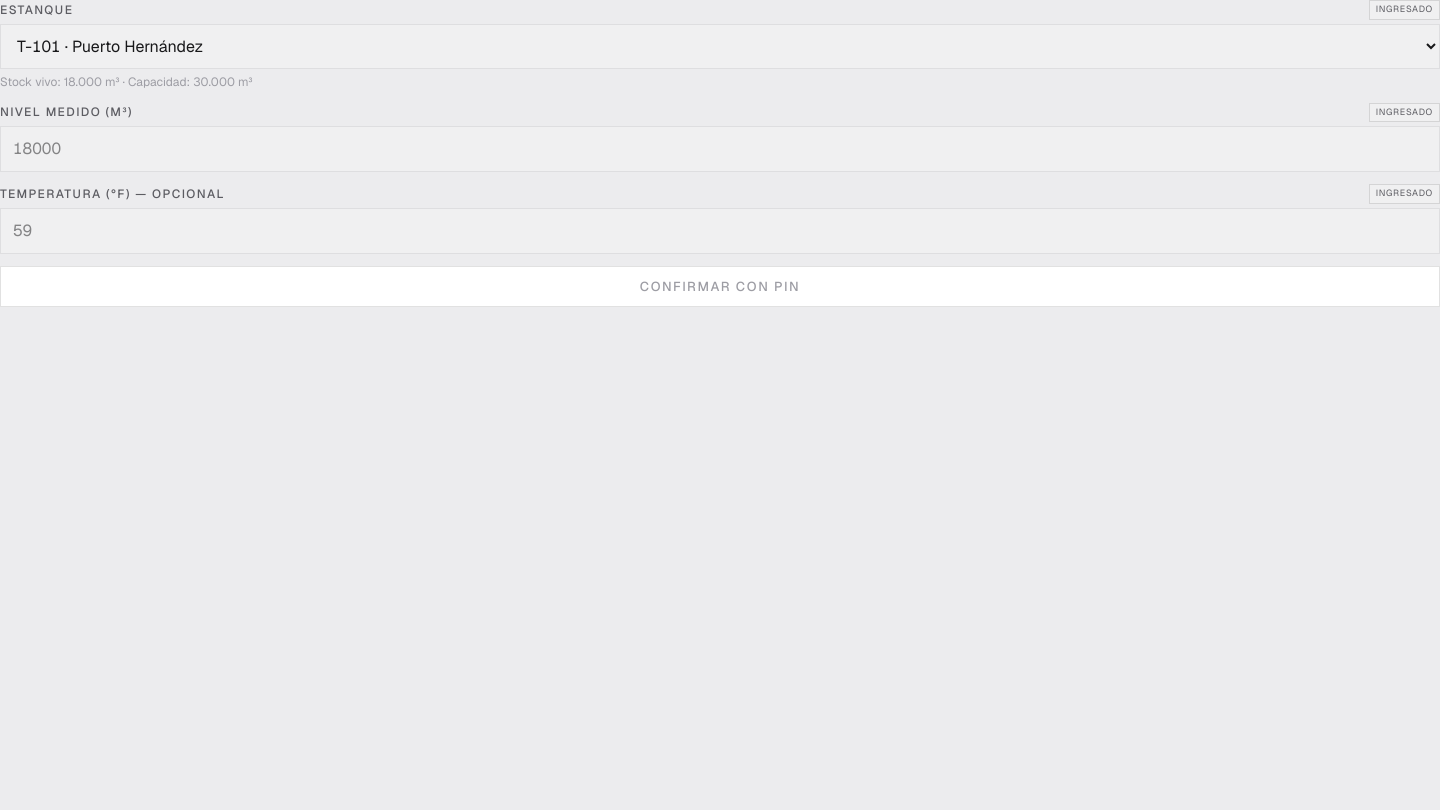
TankReadingForm › renders the PIN dialog OUTSIDE the host form (nested <form> navigates in real browsers)
The image size is (1440, 810).
Type "18100" into the field labelled "Nivel medido (m³)". click: [720, 149]
box: [0,126,1439,172]
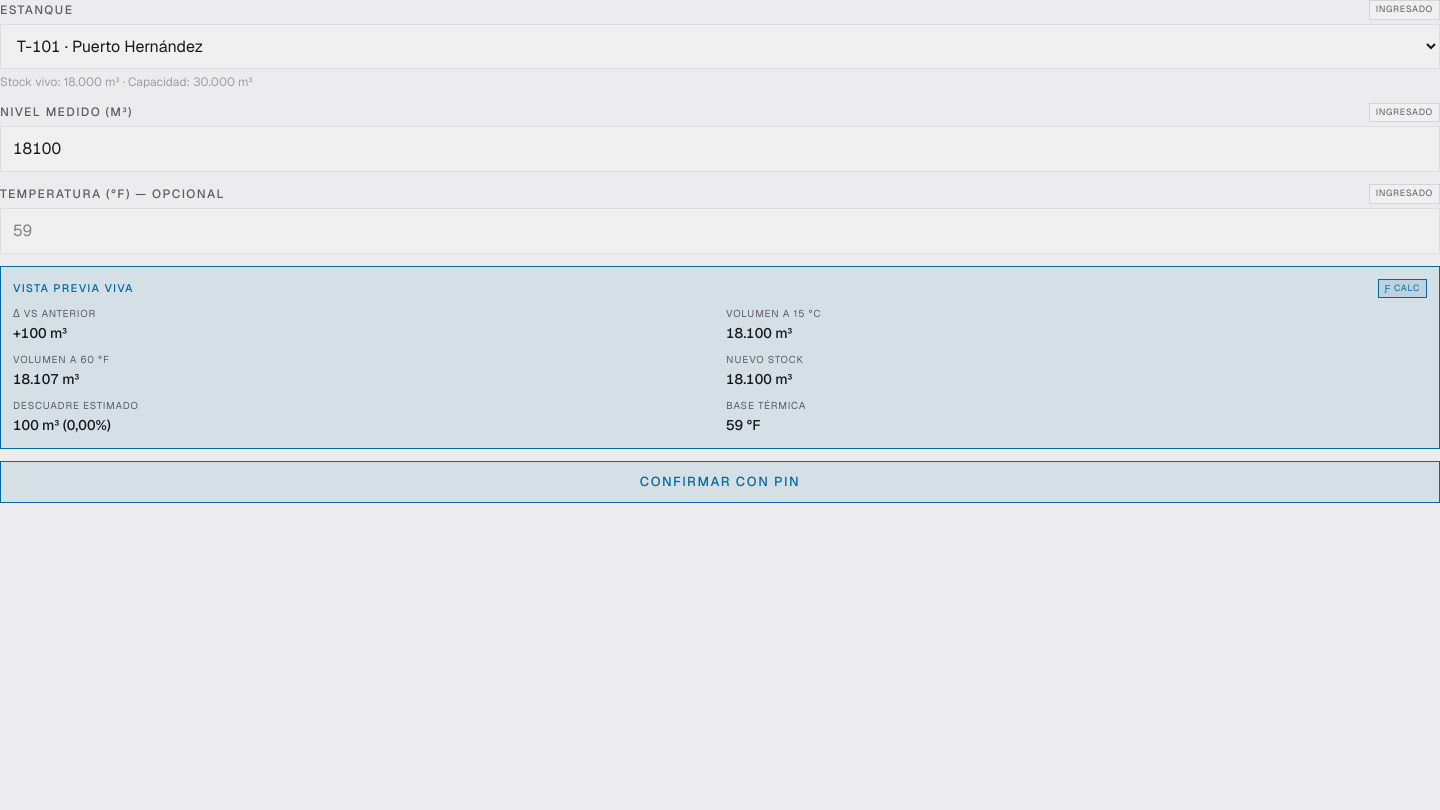
Click the button "Confirmar con PIN". click: [720, 482]
box: [0,461,1439,502]
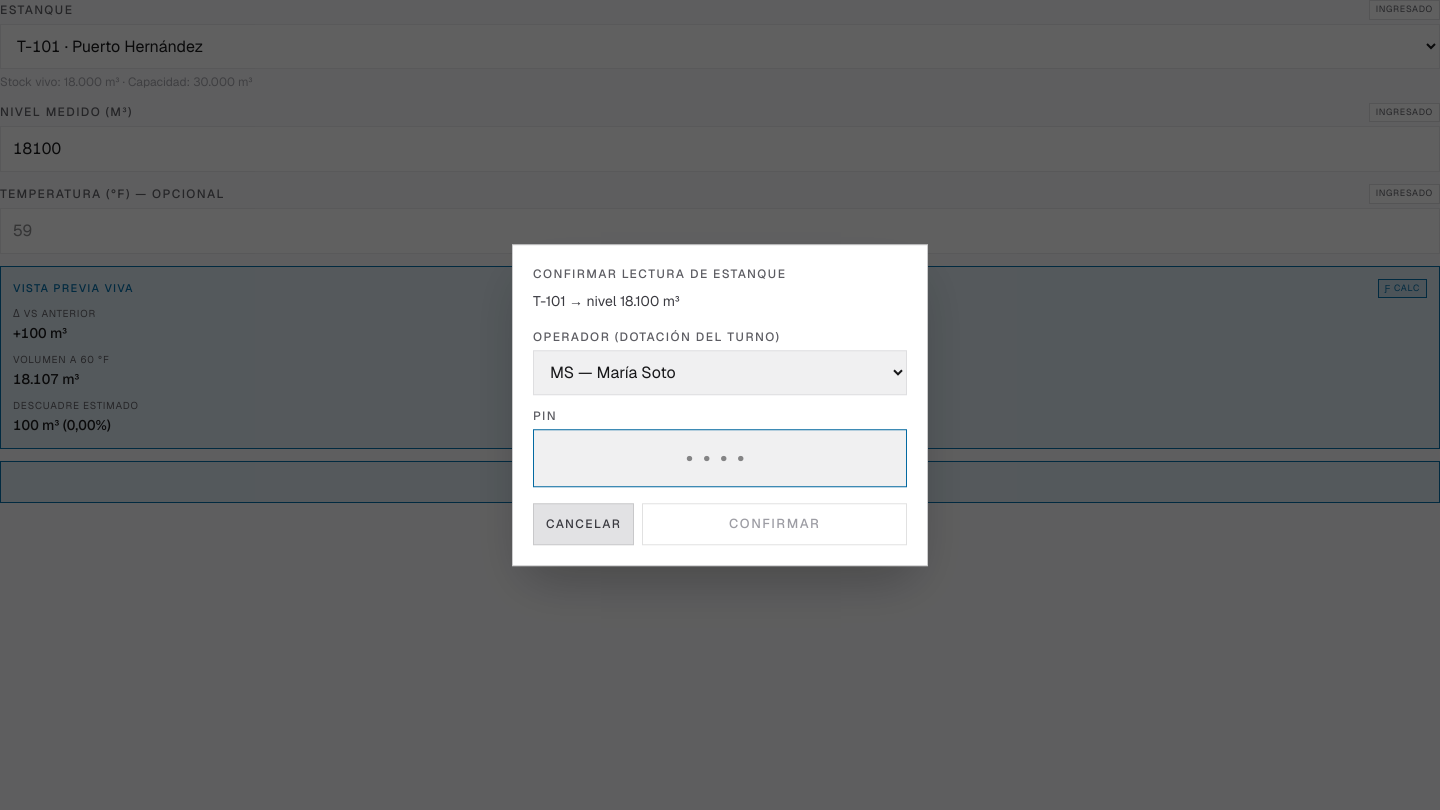
Expected: the password field labelled "PIN" is shown, [533,429,907,487]
